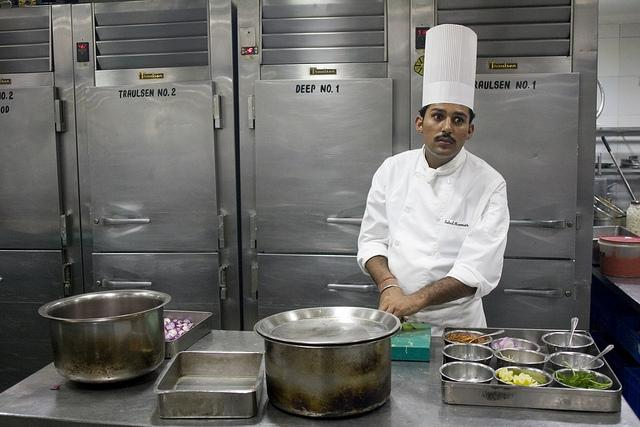onion: (500, 336, 510, 348), (502, 340, 514, 348), (165, 334, 172, 341), (182, 319, 190, 324), (175, 320, 183, 325), (493, 342, 499, 348), (178, 330, 185, 335), (164, 318, 171, 323), (168, 334, 175, 338), (169, 323, 175, 327)
